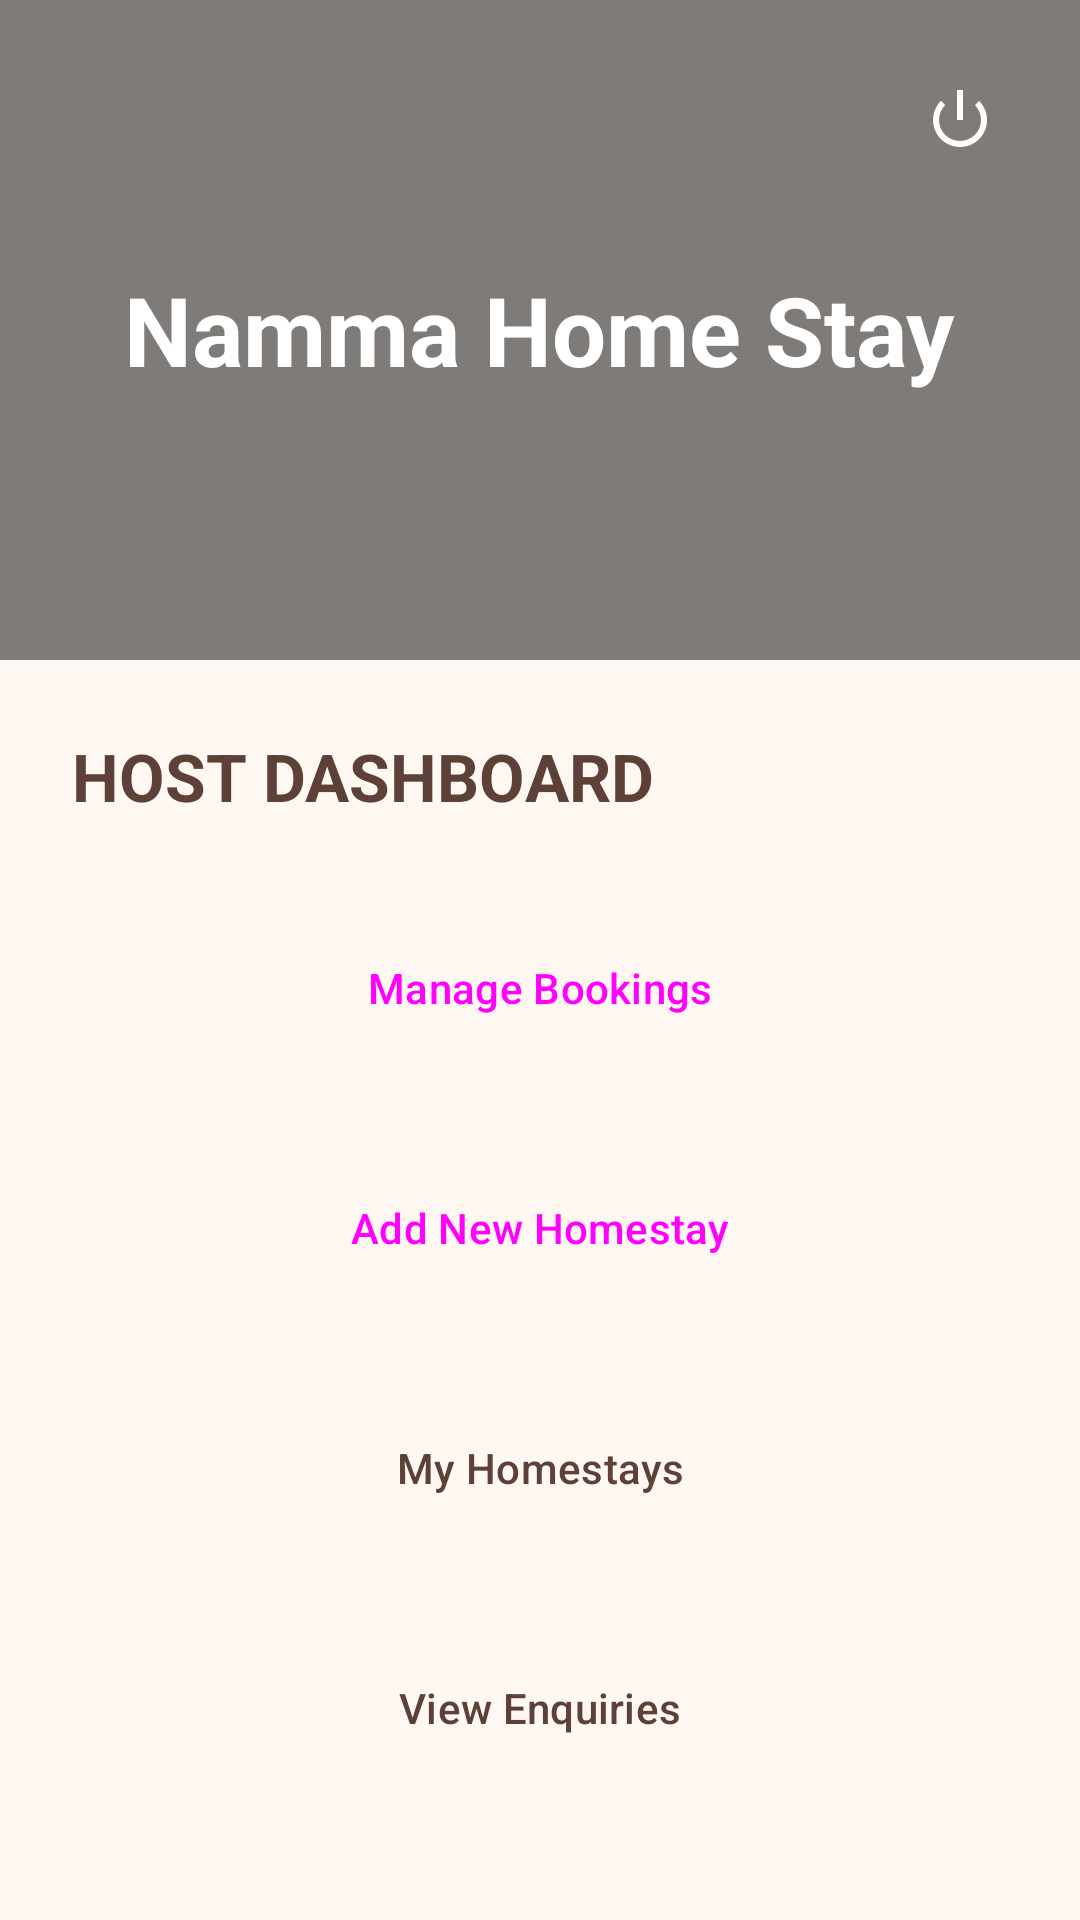

Icon bounding boxes for this 1080×1920 phone screenshot, format {"x1": x1, "y1": y1, "x2": x2, "y2": y2}:
lock power off: {"x1": 933, "y1": 90, "x2": 987, "y2": 147}
